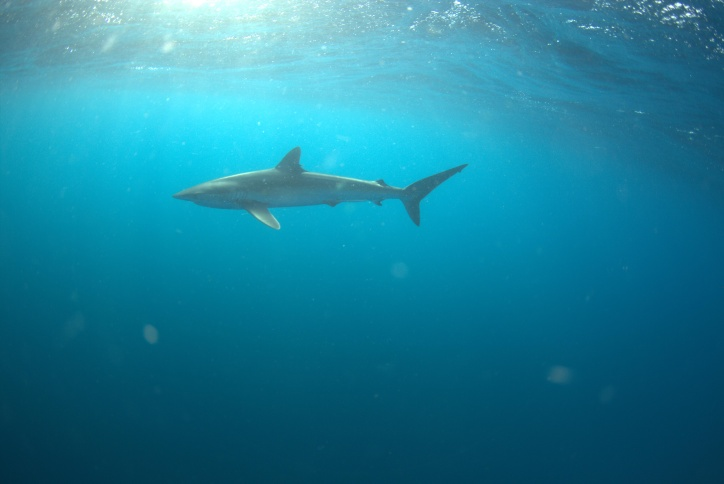Sedoso: (156, 132, 469, 247)
